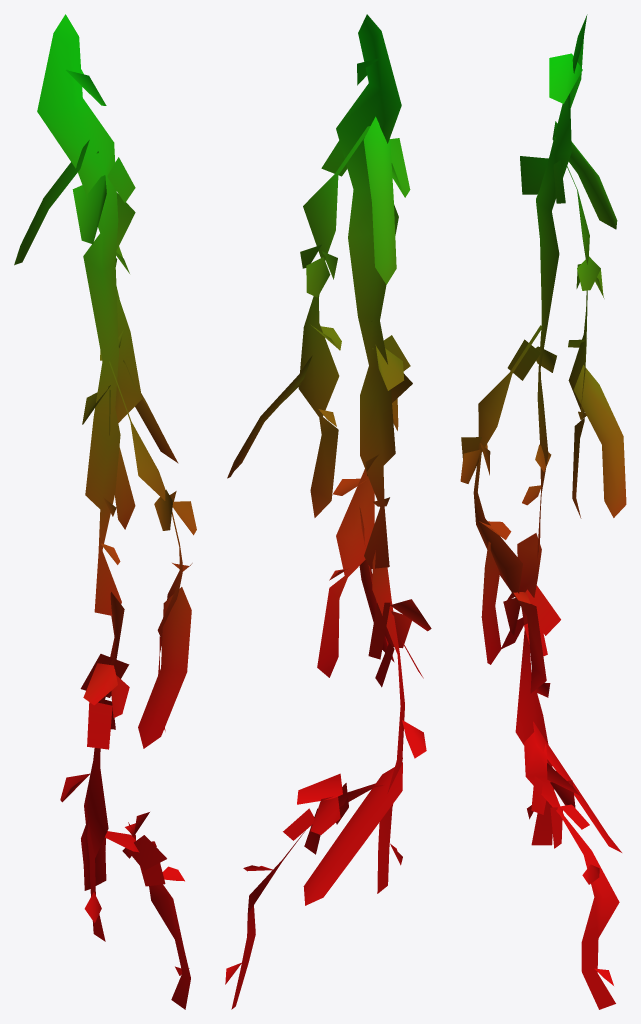
Rendered from Var9_LOD5.fbx.
The picture shows the model from 3 angles, left to right: view 1: azimuth 30°, elevation 25°; view 2: azimuth 150°, elevation 25°; view 3: azimuth 270°, elevation 25°; orthographic projection. The views are drawn at different scales.
Visible parts, largest first — view 1: _65nr_Var9_LOD5; view 2: _65nr_Var9_LOD5; view 3: _65nr_Var9_LOD5.
Part boxes in pixels (x1=…): _65nr_Var9_LOD5: x1=14, y1=14, x2=196, y2=1009; _65nr_Var9_LOD5: x1=225, y1=14, x2=431, y2=1009; _65nr_Var9_LOD5: x1=460, y1=14, x2=626, y2=1009.
Bounding box in the file's own units: 26.36 × 153 × 24.46.
